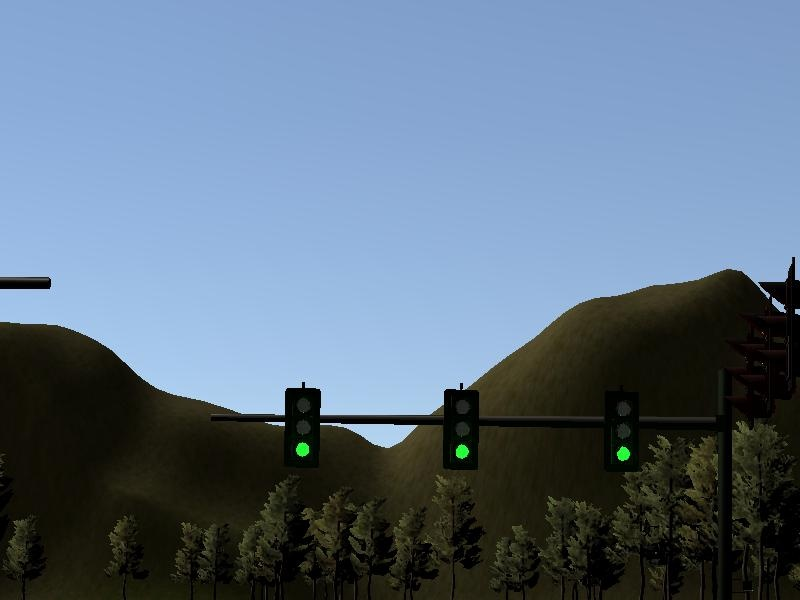GREEN: (446, 389, 479, 470), (285, 386, 319, 463), (607, 395, 636, 473)
